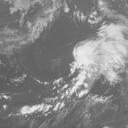cyclone: (73, 38, 122, 83)
